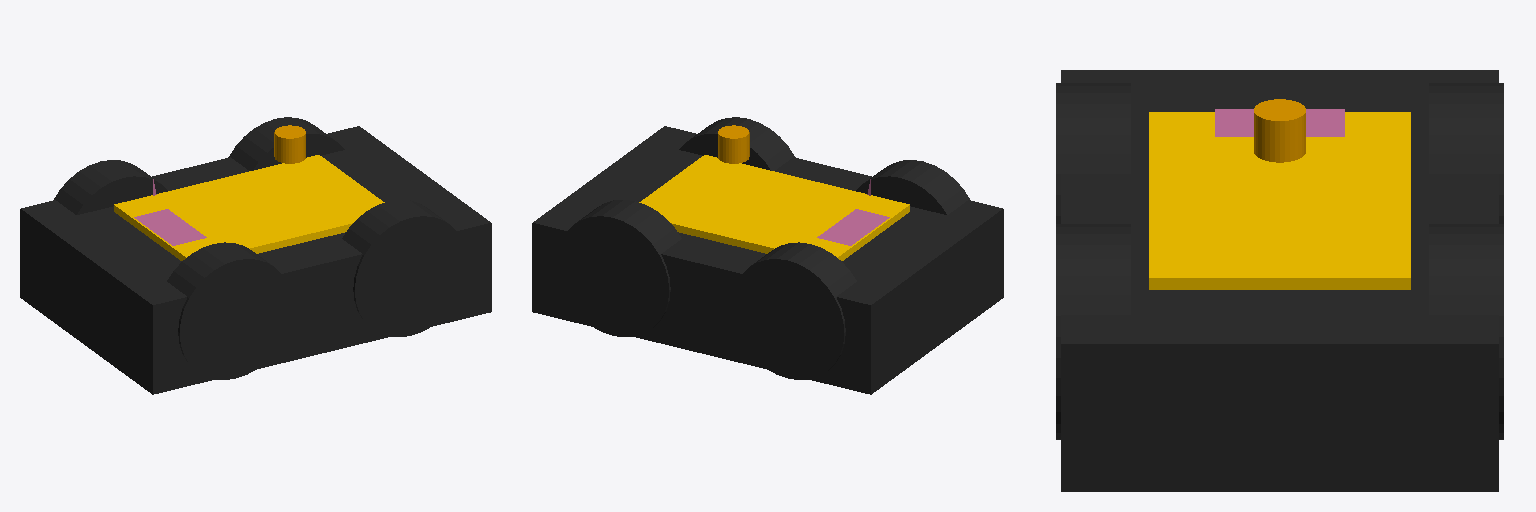
robot.urdf — skid_robot:
<?xml version="1.0"?>
<!-- Husky-like skid-steer test robot: primitive, STL, OBJ and Collada
     visuals, wheels on continuous joints and Gazebo sensors. -->
<robot name="skid_robot">
  <material name="dark"><color rgba="0.2 0.2 0.2 1"/></material>

  <link name="base_footprint"/>
  <joint name="base_footprint_joint" type="fixed">
    <parent link="base_footprint"/>
    <child link="base_link"/>
    <origin xyz="0 0 0.13" rpy="0 0 0"/>
  </joint>

  <link name="base_link">
    <visual>
      <geometry><box size="0.99 0.67 0.25"/></geometry>
      <material name="dark"/>
    </visual>
    <visual name="top_plate">
      <origin xyz="0 0 0.135"/>
      <geometry>
        <mesh filename="package://test_robot_description/meshes/top_plate.stl" scale="1 1 1"/>
      </geometry>
      <material name="yellow"><color rgba="1 0.8 0 1"/></material>
    </visual>
    <visual name="front_bumper">
      <origin xyz="0.5 0 0" rpy="0 0 1.5707963267948966"/>
      <geometry><mesh filename="package://test_robot_description/meshes/bumper.dae"/></geometry>
      <material name="dark"/>
    </visual>
  </link>

  <link name="front_left_wheel">
    <visual>
      <origin rpy="1.5707963267948966 0 0"/>
      <geometry><cylinder radius="0.165" length="0.1143"/></geometry>
      <material name="dark"/>
    </visual>
  </link>
  <joint name="front_left_wheel_joint" type="continuous">
    <parent link="base_link"/>
    <child link="front_left_wheel"/>
    <origin xyz="0.256 0.2854 0.03282"/>
    <axis xyz="0 1 0"/>
  </joint>
  <link name="front_right_wheel">
    <visual>
      <origin rpy="1.5707963267948966 0 0"/>
      <geometry><cylinder radius="0.165" length="0.1143"/></geometry>
      <material name="dark"/>
    </visual>
  </link>
  <joint name="front_right_wheel_joint" type="continuous">
    <parent link="base_link"/>
    <child link="front_right_wheel"/>
    <origin xyz="0.256 -0.2854 0.03282"/>
    <axis xyz="0 1 0"/>
  </joint>
  <link name="rear_left_wheel">
    <visual>
      <origin rpy="1.5707963267948966 0 0"/>
      <geometry><cylinder radius="0.165" length="0.1143"/></geometry>
      <material name="dark"/>
    </visual>
  </link>
  <joint name="rear_left_wheel_joint" type="continuous">
    <parent link="base_link"/>
    <child link="rear_left_wheel"/>
    <origin xyz="-0.256 0.2854 0.03282"/>
    <axis xyz="0 1 0"/>
  </joint>
  <link name="rear_right_wheel">
    <visual>
      <origin rpy="1.5707963267948966 0 0"/>
      <geometry><cylinder radius="0.165" length="0.1143"/></geometry>
      <material name="dark"/>
    </visual>
  </link>
  <joint name="rear_right_wheel_joint" type="continuous">
    <parent link="base_link"/>
    <child link="rear_right_wheel"/>
    <origin xyz="-0.256 -0.2854 0.03282"/>
    <axis xyz="0 1 0"/>
  </joint>

  <link name="mast_link">
    <visual>
      <geometry><mesh filename="../meshes/mast.obj"/></geometry>
    </visual>
    <visual name="mirrored_mast">
      <geometry><mesh filename="../meshes/mast.obj" scale="1 -1 1"/></geometry>
    </visual>
    <visual name="antenna">
      <origin xyz="0 0 0.1"/>
      <geometry><mesh filename="package://test_robot_description/meshes/antenna.stl"/></geometry>
    </visual>
  </link>
  <joint name="mast_joint" type="fixed">
    <parent link="base_link"/>
    <child link="mast_link"/>
    <origin xyz="-0.3 0 0.15"/>
  </joint>

  <link name="imu_link"/>
  <joint name="imu_joint" type="fixed">
    <parent link="base_link"/>
    <child link="imu_link"/>
    <origin xyz="0.1 0 0.05"/>
  </joint>

  <link name="os_sensor">
    <visual>
      <geometry><cylinder radius="0.04" length="0.07"/></geometry>
    </visual>
  </link>
  <joint name="os_sensor_joint" type="fixed">
    <parent link="base_link"/>
    <child link="os_sensor"/>
    <origin xyz="0.1 0 0.3"/>
  </joint>

  <link name="camera_link"/>
  <joint name="camera_joint" type="fixed">
    <parent link="base_link"/>
    <child link="camera_link"/>
    <origin xyz="0.45 -0.1 0.2" rpy="0 0.2 -0.1"/>
  </joint>
  <link name="camera_link_optical"/>
  <joint name="camera_optical_joint" type="fixed">
    <parent link="camera_link"/>
    <child link="camera_link_optical"/>
    <origin rpy="-1.5707963267948966 0 -1.5707963267948966"/>
  </joint>

  <gazebo reference="camera_link">
    <sensor type="camera" name="front_cam">
      <update_rate>30</update_rate>
      <camera>
        <horizontal_fov>1.5707963267948966</horizontal_fov>
        <image><width>1280</width><height>720</height></image>
      </camera>
    </sensor>
  </gazebo>
  <gazebo reference="os_sensor">
    <sensor type="gpu_lidar" name="os1-64">
      <pose>0 0 0.036 0 0 0</pose>
      <update_rate>10</update_rate>
      <lidar>
        <scan>
          <horizontal><samples>1024</samples><min_angle>-3.141592653589793</min_angle><max_angle>3.141592653589793</max_angle></horizontal>
          <vertical><samples>64</samples><min_angle>-0.39269908169872414</min_angle><max_angle>0.39269908169872414</max_angle></vertical>
        </scan>
        <range><min>0.5</min><max>120</max></range>
      </lidar>
    </sensor>
  </gazebo>
  <gazebo reference="imu_link">
    <sensor type="imu" name="imu"/>
  </gazebo>
  <gazebo reference="base_link">
    <sensor type="ray" name="sonar_front">
      <pose>0.5 0 0 0 0 0</pose>
      <ray>
        <scan><horizontal><samples>1</samples></horizontal></scan>
        <range><min>0.05</min><max>4</max></range>
      </ray>
    </sensor>
    <sensor type="contact" name="bumper_contact"/>
  </gazebo>
</robot>

--- What the picture shows (computed from the rendered views, not written in the file) ---
Views: 3 orthographic renders of the robot side by side, from view 1: azimuth 30°, elevation 25°; view 2: azimuth 150°, elevation 25°; view 3: azimuth 270°, elevation 25°.
Robot: skid_robot — 11 links, 10 joints (4 continuous, 6 fixed); root link base_footprint; default pose: all joints at 0.
Visible links, largest first — view 1: base_link, front_right_wheel, rear_right_wheel, rear_left_wheel, front_left_wheel, mast_link, os_sensor; view 2: base_link, front_left_wheel, rear_left_wheel, rear_right_wheel, front_right_wheel, mast_link, os_sensor; view 3: base_link, front_left_wheel, front_right_wheel, rear_left_wheel, rear_right_wheel, os_sensor, mast_link.
Link boxes in pixels (x1,y1,x2,y2): base_link: (20, 126, 491, 394); front_right_wheel: (342, 200, 467, 336); rear_right_wheel: (167, 242, 292, 379); rear_left_wheel: (54, 160, 167, 214); front_left_wheel: (228, 117, 344, 170); mast_link: (134, 179, 206, 245); os_sensor: (274, 125, 305, 163); base_link: (532, 126, 1003, 394); front_left_wheel: (556, 200, 681, 336); rear_left_wheel: (731, 242, 856, 379); rear_right_wheel: (856, 160, 969, 214); front_right_wheel: (679, 117, 795, 170); mast_link: (817, 179, 889, 245); os_sensor: (718, 125, 749, 163); base_link: (1061, 70, 1498, 491); front_left_wheel: (1429, 224, 1503, 439); front_right_wheel: (1056, 224, 1130, 439); rear_left_wheel: (1429, 83, 1503, 223); rear_right_wheel: (1056, 83, 1130, 223); os_sensor: (1254, 99, 1305, 162); mast_link: (1215, 109, 1344, 136).
Bounding box of the posed robot: 0.995 × 0.6851 × 0.4672 m (x, y, z).
5 mesh visuals loaded from 4 distinct referenced files (1 binary STL, 1 ASCII STL, 1 Collada DAE, 1 OBJ).
